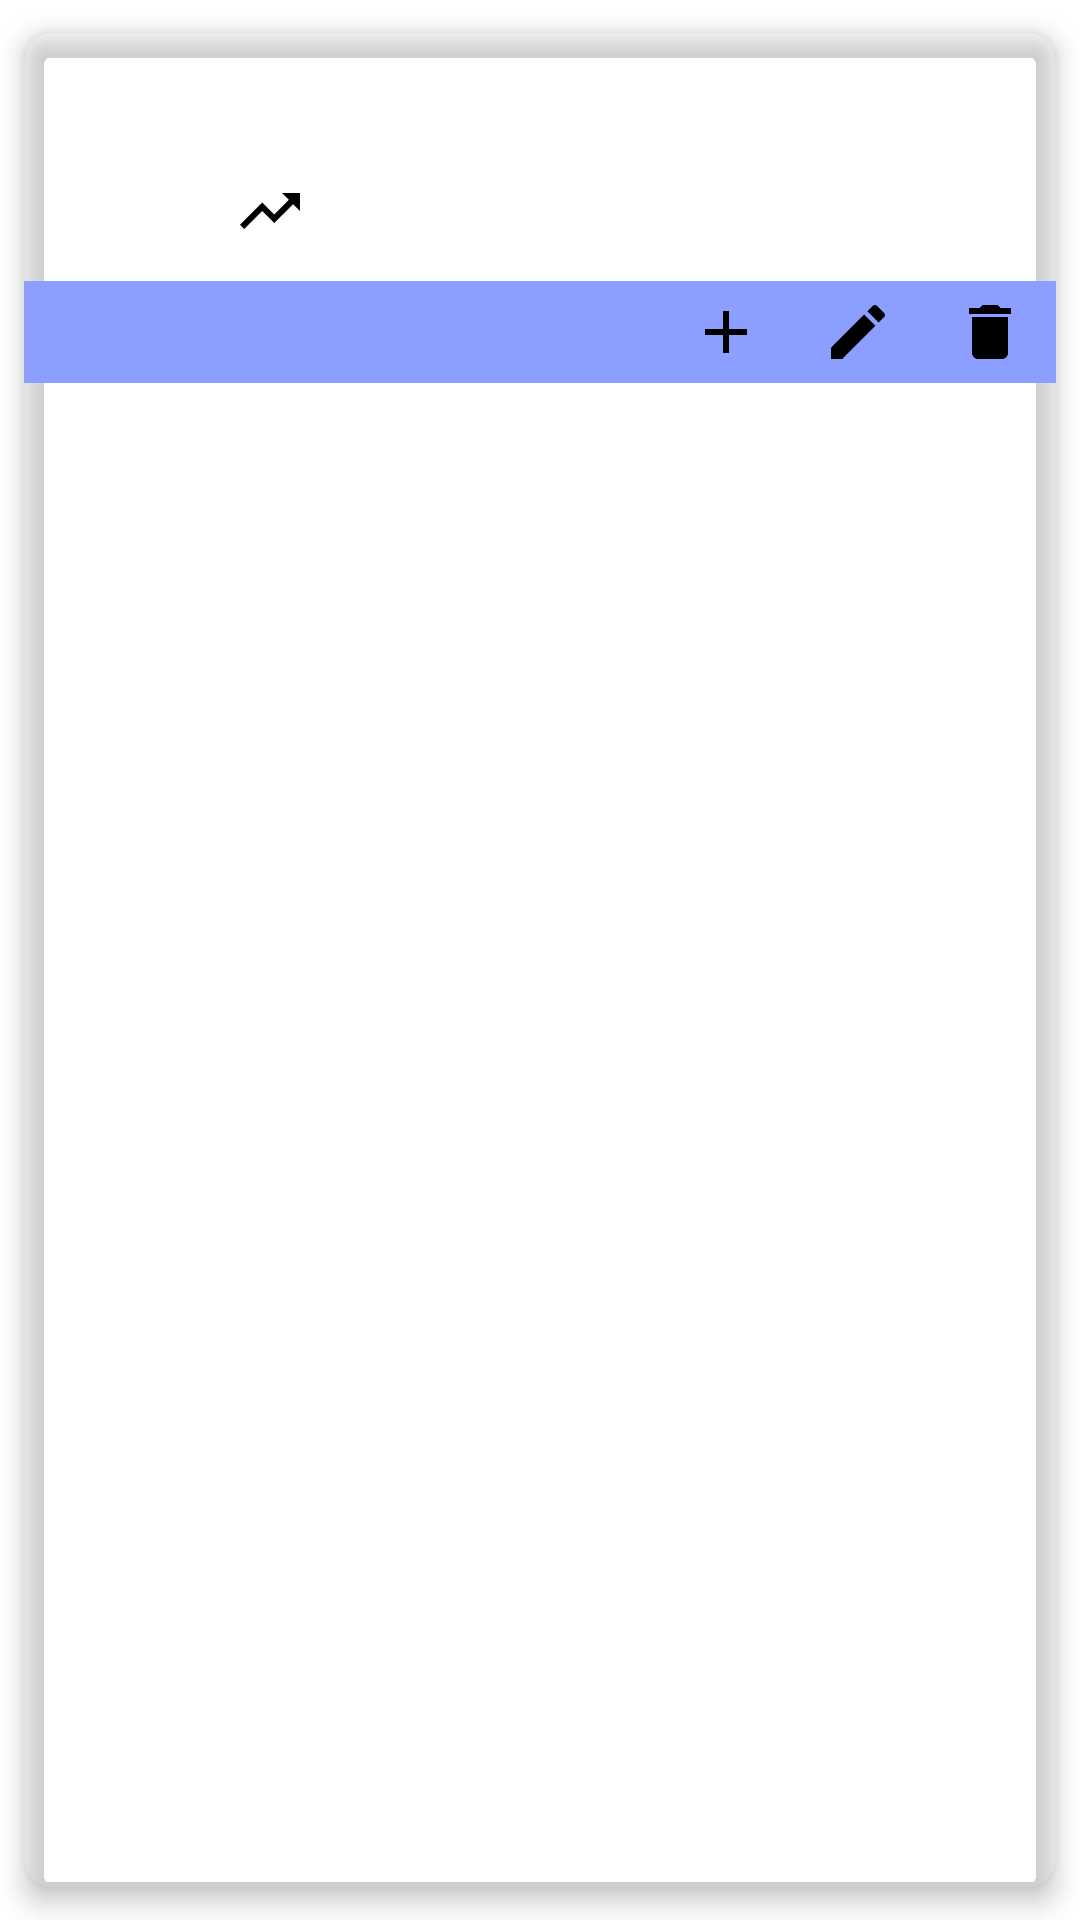

Screen size 1080px×1920px. Icon name, then its box in pixels as (x1, y1, x2, y2):
Add segment: (705, 311, 747, 353)
delete icon: (969, 305, 1011, 359)
edit icon: (831, 305, 885, 359)
